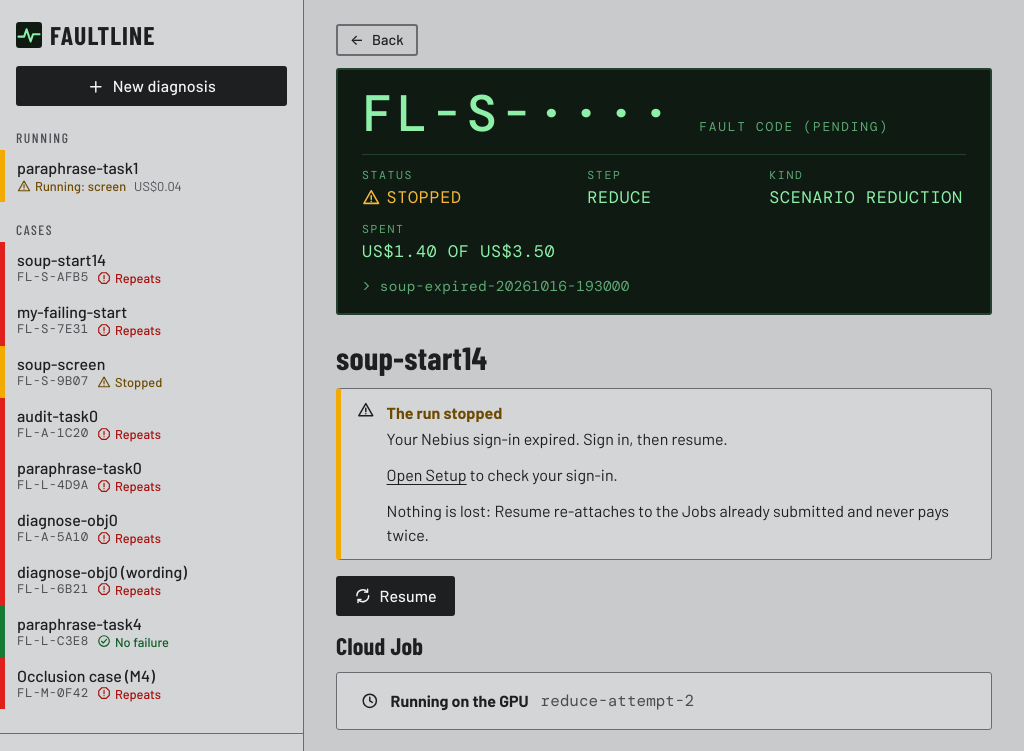
other run states › shows the server sentence when Resume is refused because a run is active
The width and height of the screenshot is (1024, 751).
Click the button "Resume" at (395, 596), box [336,576,455,616]
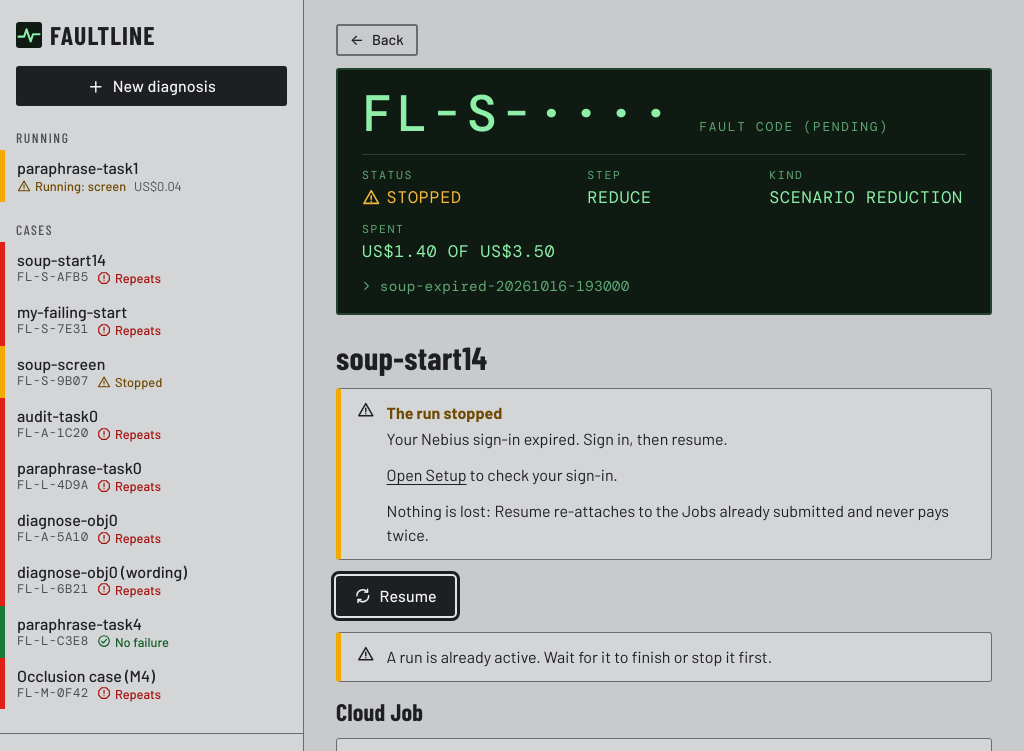
Expected: the message reads "A run is already active. Wait for it to finish or stop it first.", [387,647,772,666]
